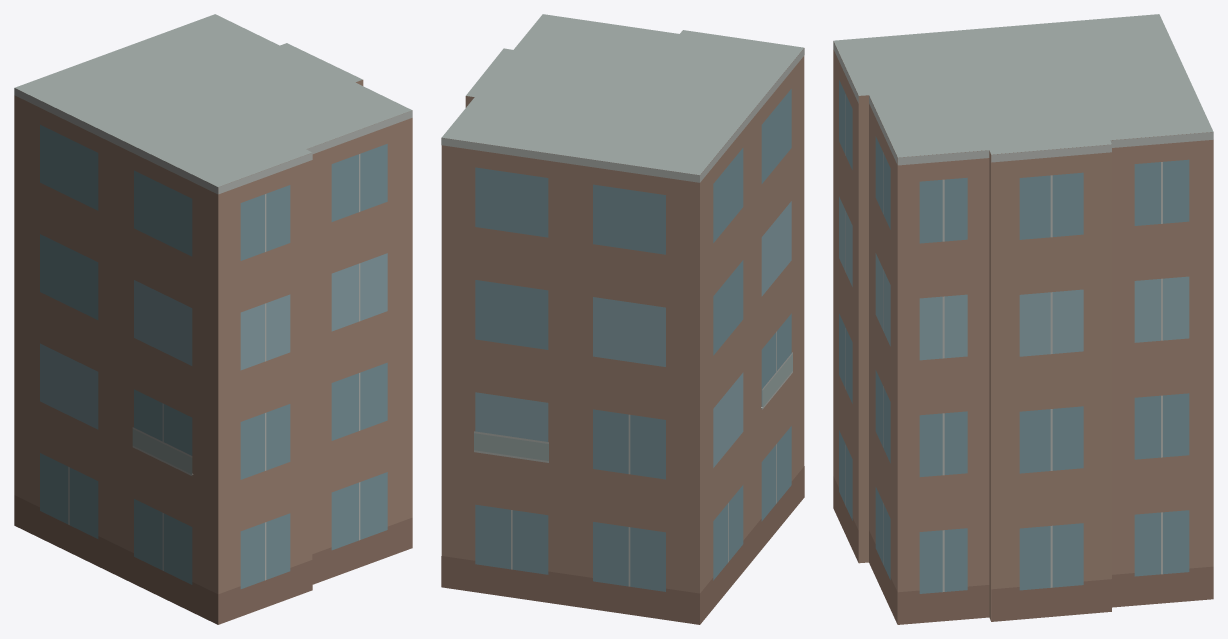
File: survey-upis-32688357.glb
3 renders of one model, left to right at view 1: azimuth 30°, elevation 25°; view 2: azimuth 150°, elevation 25°; view 3: azimuth 270°, elevation 25°, orthographic. The views are drawn at different scales.
Parts seen in each view (by area): view 1: survey-upis-32688357.tmp; view 2: survey-upis-32688357.tmp; view 3: survey-upis-32688357.tmp.
Boxes of the visible parts, left/top/right/bottom form: survey-upis-32688357.tmp: left=14, top=14, right=412, bottom=624; survey-upis-32688357.tmp: left=441, top=14, right=804, bottom=624; survey-upis-32688357.tmp: left=833, top=14, right=1213, bottom=624.
Size of the model in its own units: 9.5 by 14.4 by 10.63.
